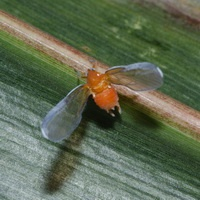insect: (41, 62, 162, 141)
